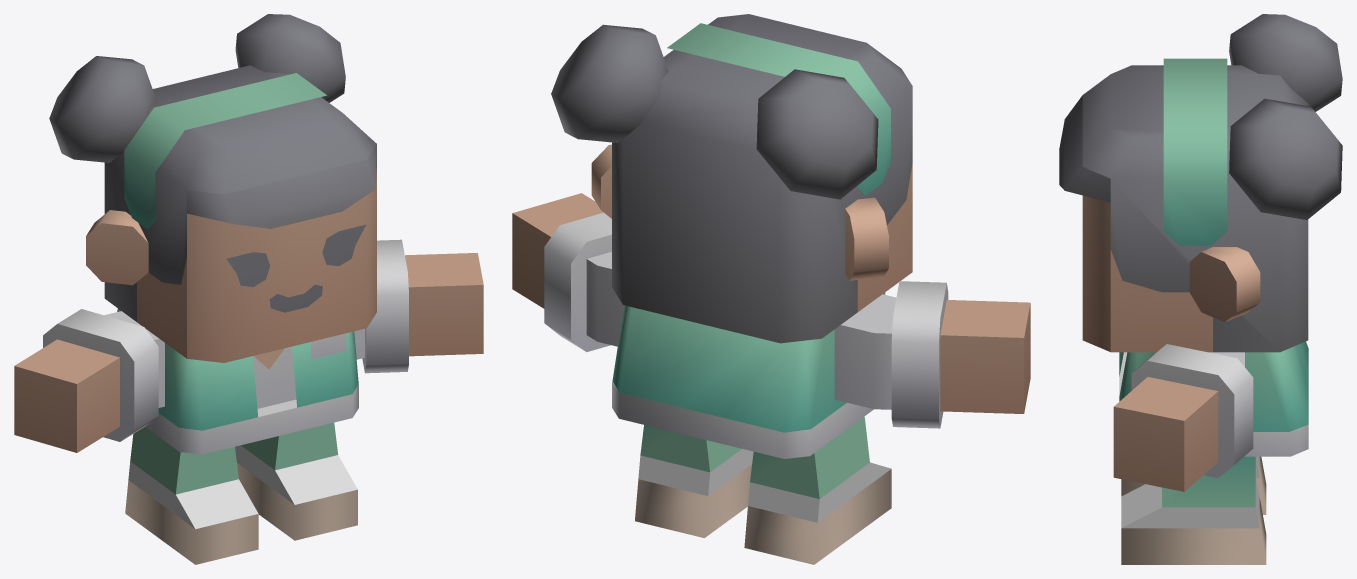
The model's file is character-employee.glb.
The picture shows the model from 3 angles, left to right: view 1: azimuth 30°, elevation 25°; view 2: azimuth 150°, elevation 25°; view 3: azimuth 270°, elevation 25°; orthographic projection. The views are drawn at different scales.
Parts seen in each view (by area): view 1: character-employee; view 2: character-employee; view 3: character-employee.
Part boxes in pixels (x1,y1,x2,y2): character-employee: [14, 14, 483, 564]; character-employee: [512, 14, 1030, 564]; character-employee: [1059, 14, 1342, 564].
Size of the model in its own units: 0.7806 by 0.7234 by 0.4014.
